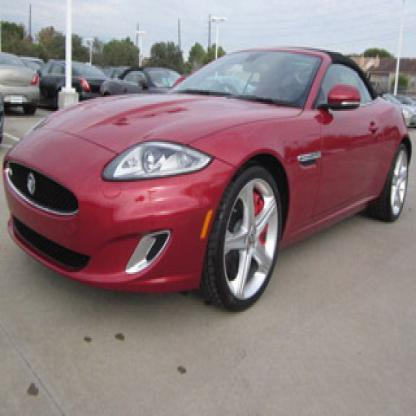Vehicle: (4, 46, 411, 315)
